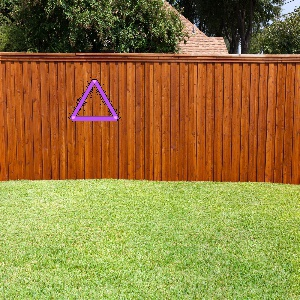triangle: (65, 77, 124, 124)
